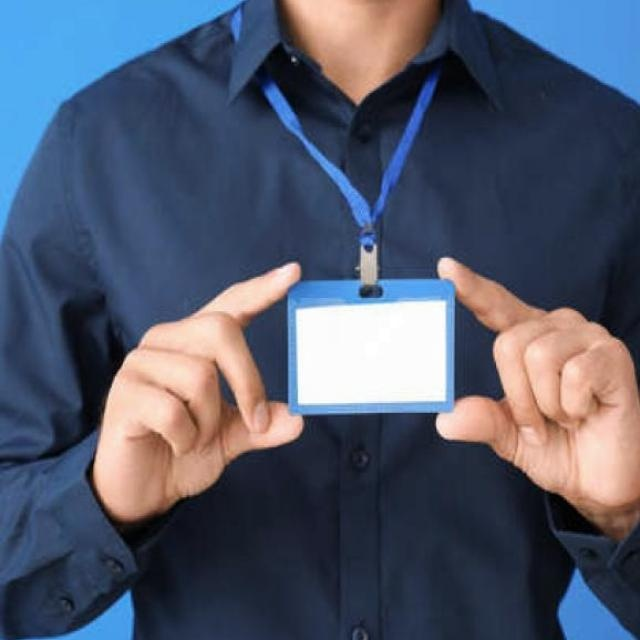ID_card: (259, 92, 466, 409)
